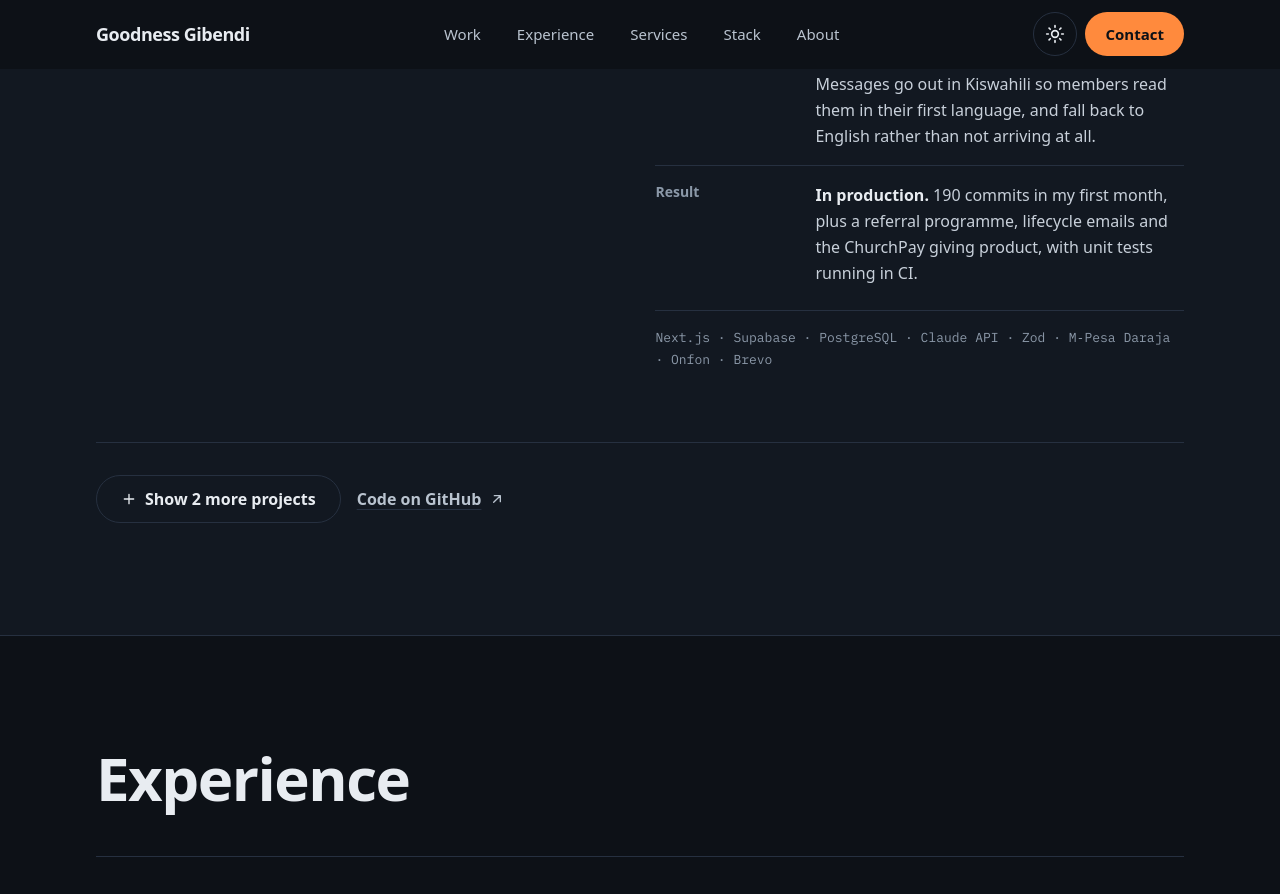
Test: more projects are revealed on request
(page scrolled)
Click the button "Show 2 more projects": (218, 499) left=96, top=475, right=341, bottom=523
(page scrolled)
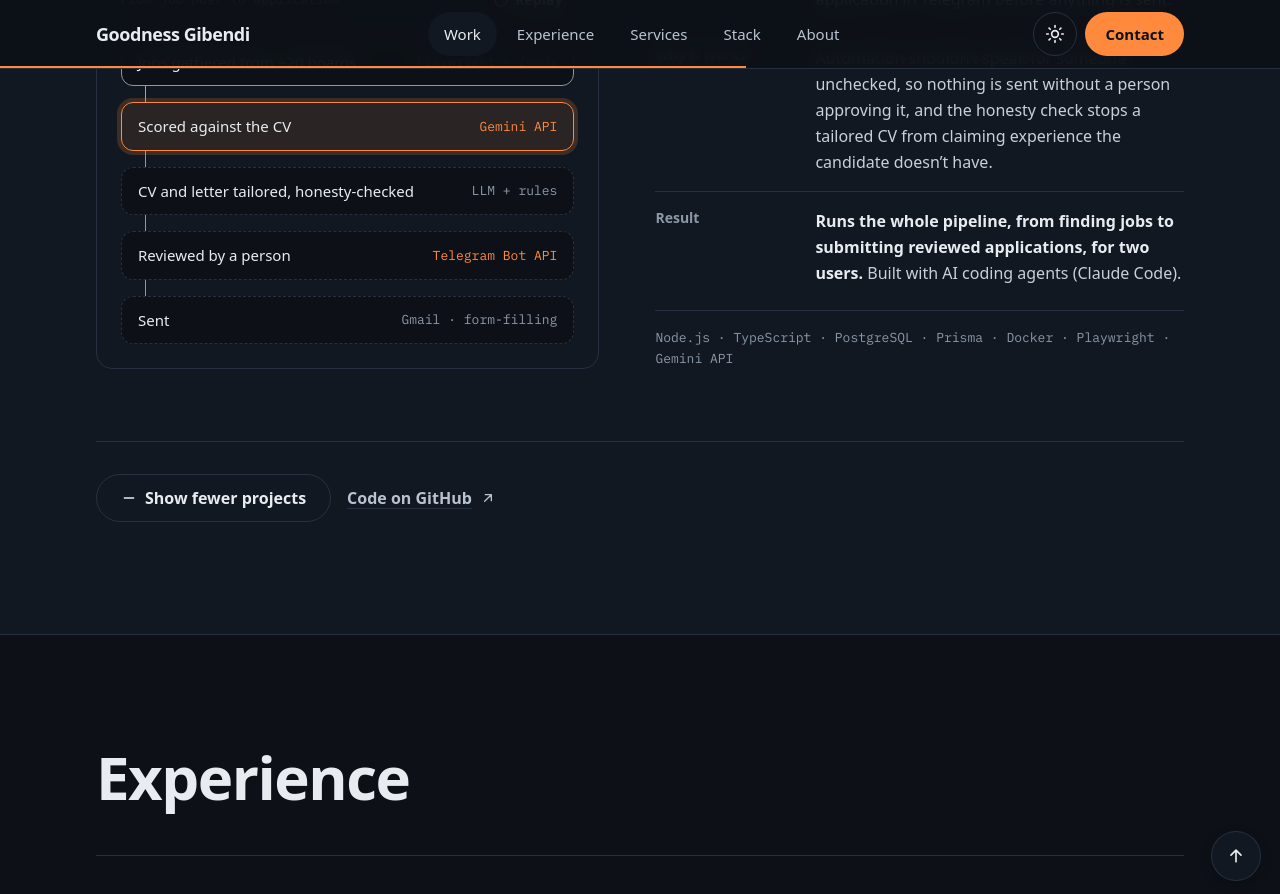
Now the button "Show fewer projects" is expanded, box left=96, top=474, right=331, bottom=522
